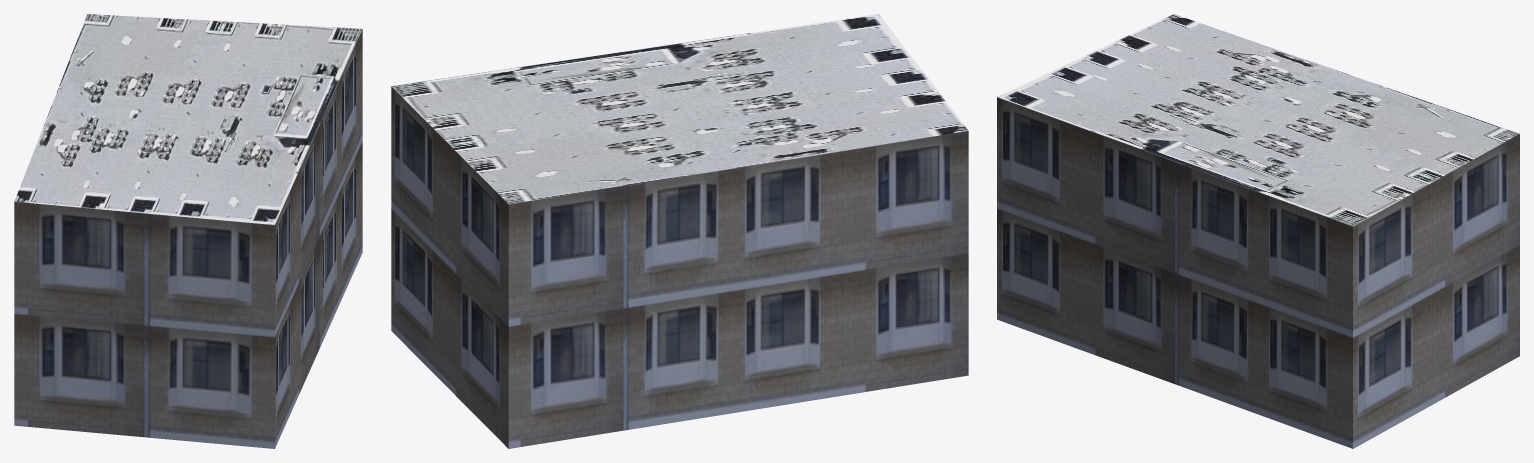
Rendered from ResTex__3945.fbx.
The picture shows the model from 3 angles, left to right: view 1: azimuth 30°, elevation 25°; view 2: azimuth 150°, elevation 25°; view 3: azimuth 270°, elevation 25°; orthographic projection. The views are drawn at different scales.
Visible parts, largest first — view 1: CityEngineMaterial_3_m, CityEngineMaterial_4_m; view 2: CityEngineMaterial_3_m, CityEngineMaterial_4_m; view 3: CityEngineMaterial_3_m, CityEngineMaterial_4_m.
Part boxes in pixels (x1,y1,x2,y2): CityEngineMaterial_3_m: [14, 29, 362, 448]; CityEngineMaterial_4_m: [14, 14, 362, 224]; CityEngineMaterial_3_m: [391, 86, 968, 448]; CityEngineMaterial_4_m: [391, 14, 968, 204]; CityEngineMaterial_3_m: [997, 97, 1519, 448]; CityEngineMaterial_4_m: [997, 14, 1519, 226].
Bounding box in the file's own units: 12.29 × 6 × 12.78.
2 materials, 2 textured.
